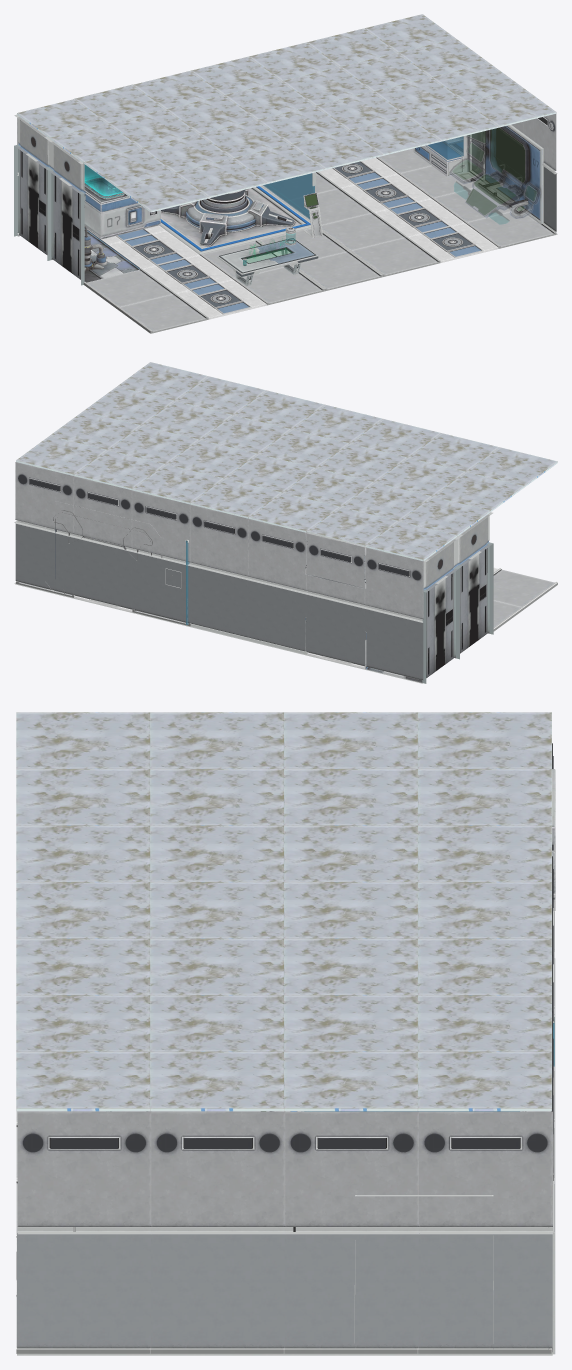
Rendered from lab.glb.
3 renders of one model, top to bottom at view 1: azimuth 30°, elevation 25°; view 2: azimuth 150°, elevation 25°; view 3: azimuth 270°, elevation 25°, orthographic. The views are drawn at different scales.
Visible parts, largest first — view 1: Object_15, Object_29, Object_4, Object_8, Object_3, Object_2, Object_11, Object_18, Object_12, Object_14, Object_5, Object_16 (+7 smaller); view 2: Object_15, Object_27, Object_30, Object_8, Object_29, Object_5, Object_18, Object_9, Object_12, Object_4; view 3: Object_15, Object_28, Object_30, Object_29, Object_27.
Part boxes in pixels (x1,y1,x2,y2): Object_15: (17, 14, 556, 212); Object_29: (83, 148, 556, 333); Object_4: (87, 157, 498, 319); Object_8: (14, 144, 140, 285); Object_3: (449, 127, 540, 224); Object_2: (470, 125, 543, 223); Object_11: (161, 189, 294, 246); Object_18: (73, 84, 160, 239); Object_12: (159, 186, 310, 254); Object_14: (217, 238, 318, 286); Object_5: (14, 114, 85, 193); Object_16: (413, 134, 471, 176); Object_15: (16, 362, 557, 561); Object_27: (15, 462, 423, 622); Object_30: (14, 524, 423, 683); Object_8: (365, 542, 493, 683); Object_29: (16, 568, 557, 631); Object_5: (423, 512, 492, 590); Object_18: (305, 531, 366, 666); Object_9: (45, 503, 181, 612); Object_12: (190, 623, 307, 654); Object_4: (74, 567, 498, 668); Object_15: (16, 712, 551, 1111); Object_28: (17, 1111, 552, 1234); Object_30: (17, 958, 555, 1355); Object_29: (16, 1111, 551, 1353); Object_27: (548, 743, 554, 1232).
Bounding box in the file's own units: 14.16 × 4.05 × 8.06.
Materials: 28 (24 with a texture image).
